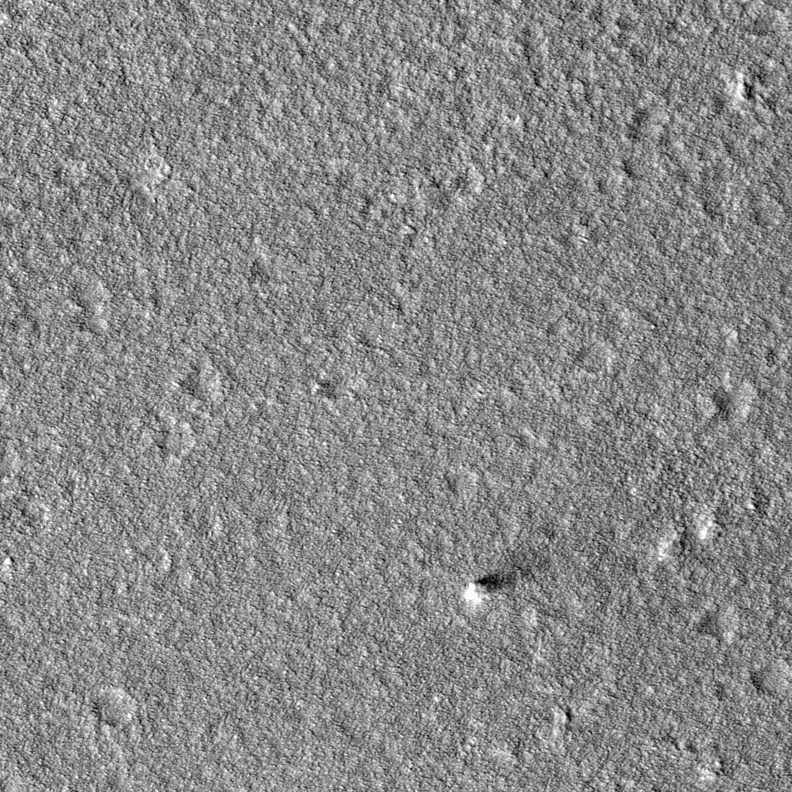dust_devil: (461, 567, 518, 606)
